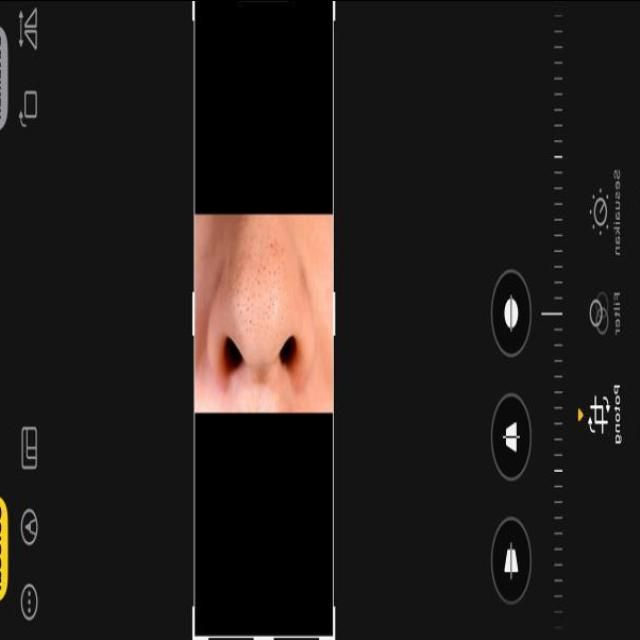blackhead: (233, 234, 286, 346)
